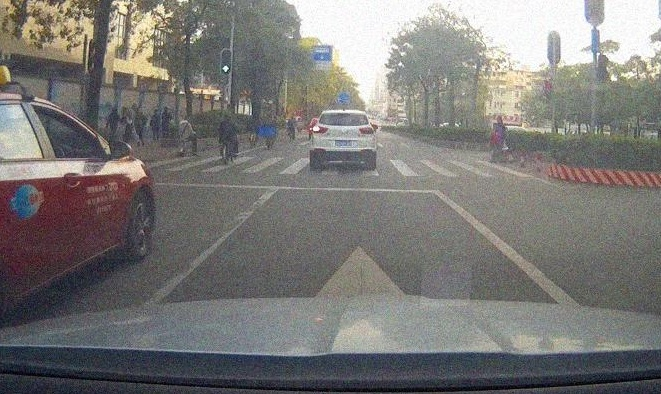L_light: (312, 124, 328, 134)
R_light: (359, 128, 375, 135)
T_light: (337, 113, 350, 115)
day-left: (310, 110, 377, 170)
